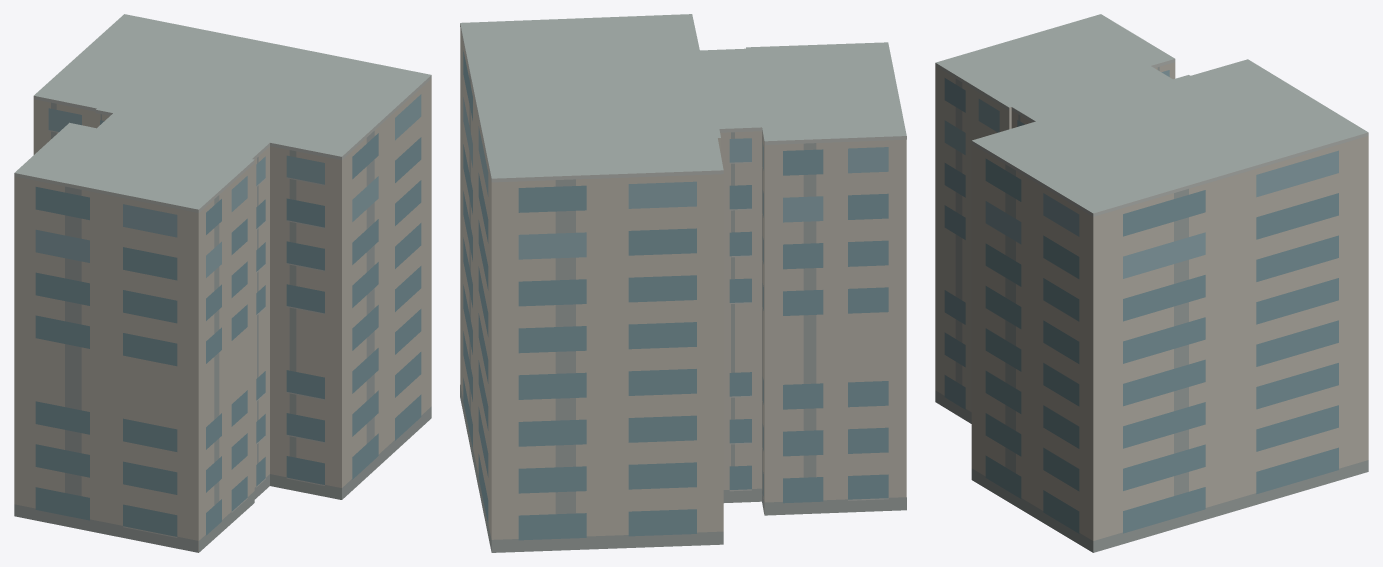
The model's file is survey-upis-32732641.glb.
3 renders of one model, left to right at view 1: azimuth 30°, elevation 25°; view 2: azimuth 150°, elevation 25°; view 3: azimuth 270°, elevation 25°, orthographic. The views are drawn at different scales.
Parts seen in each view (by area): view 1: survey-upis-32732641.tmp; view 2: survey-upis-32732641.tmp; view 3: survey-upis-32732641.tmp.
Part boxes in pixels (x1,y1,x2,y2): survey-upis-32732641.tmp: (14, 14, 431, 552); survey-upis-32732641.tmp: (460, 14, 906, 552); survey-upis-32732641.tmp: (935, 14, 1368, 552).
Size of the model in its own units: 30.77 by 24.4 by 28.24.
